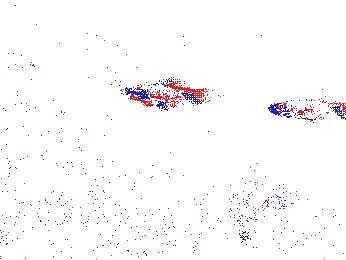redtail glassfish: (120, 75, 205, 109), (267, 94, 346, 125)
